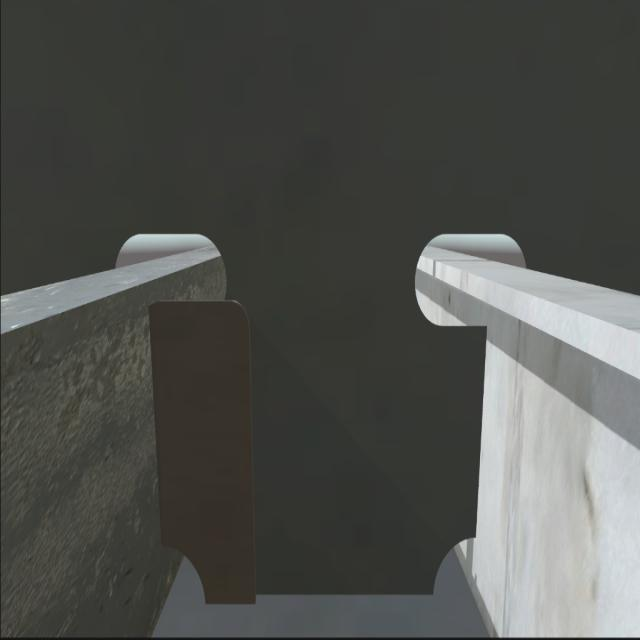fillet_hole: (431, 536, 480, 596), (160, 549, 206, 601)
fillet_yong_jeop_jang: (190, 588, 438, 606)
longi_yong_jeop_jang: (147, 300, 169, 552), (468, 304, 486, 540)
plate_CP05: (152, 301, 254, 600)
